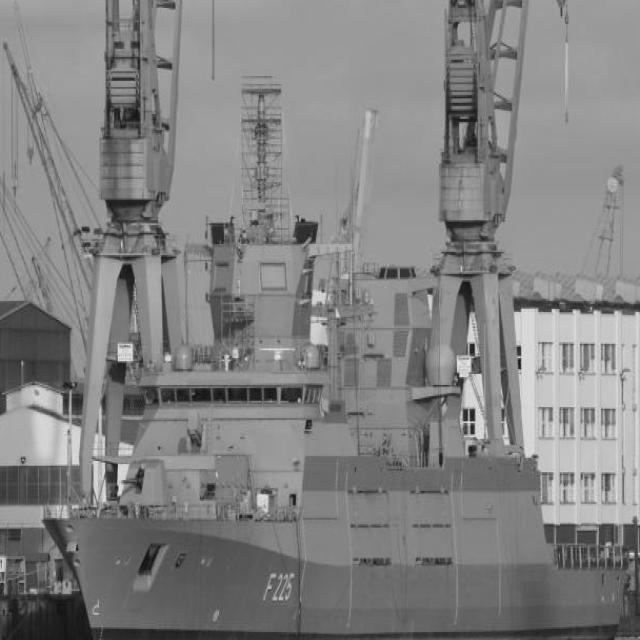Fragata: (40, 93, 631, 640)
